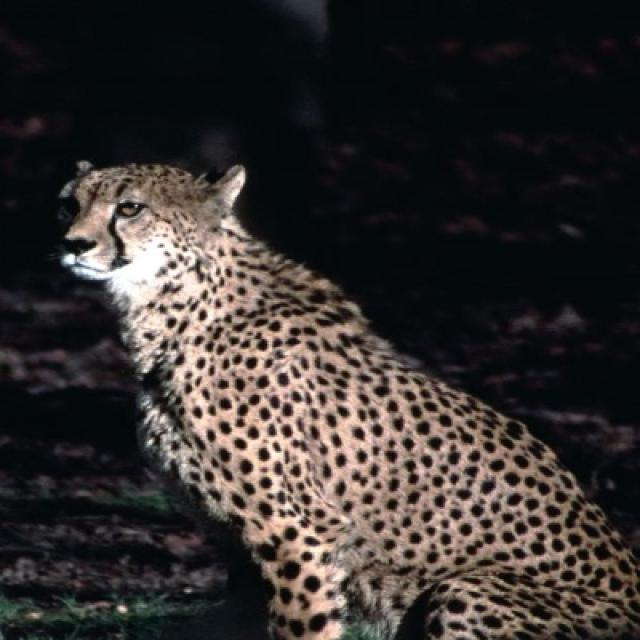Cheetah: (59, 153, 638, 638)
